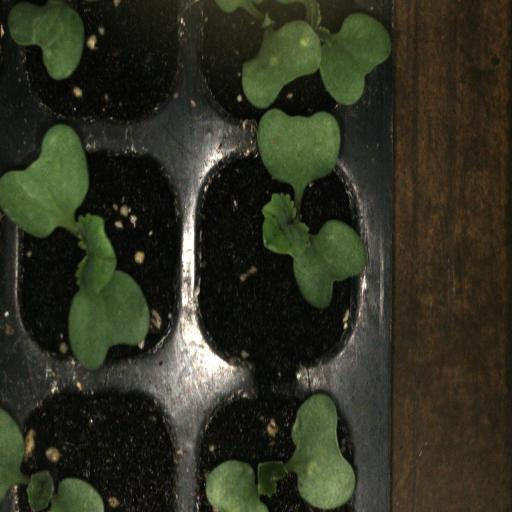seedling: (190, 130, 376, 382), (11, 130, 195, 376), (189, 377, 368, 512)
twoseedling: (191, 0, 375, 130)
